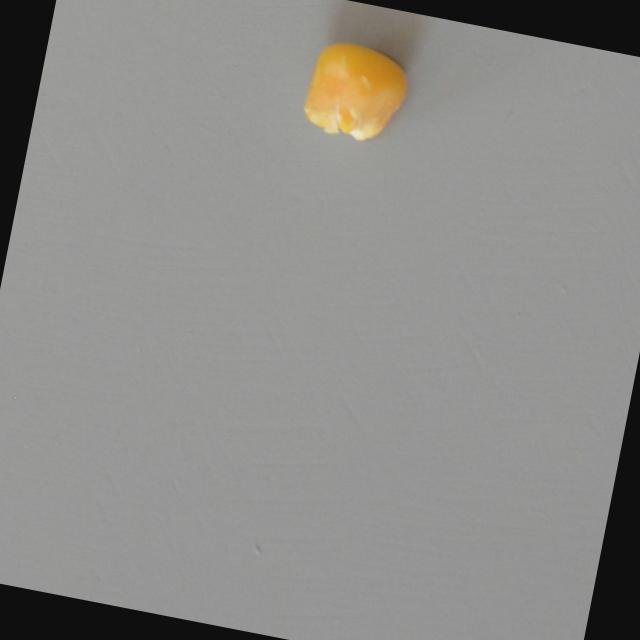pelicula: (294, 30, 417, 150)
